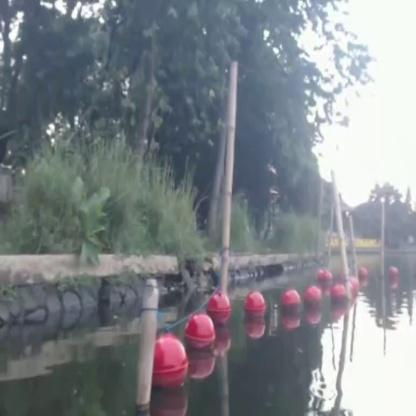red_buoy: (153, 336, 186, 382), (185, 310, 210, 350), (209, 294, 230, 328), (245, 290, 264, 327), (280, 290, 300, 322), (304, 285, 320, 314), (331, 284, 348, 306), (387, 264, 398, 282), (315, 267, 324, 282), (360, 269, 368, 282)
